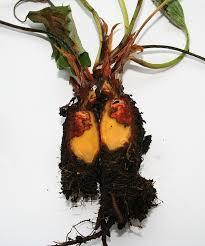root_rot: (24, 8, 171, 246)
